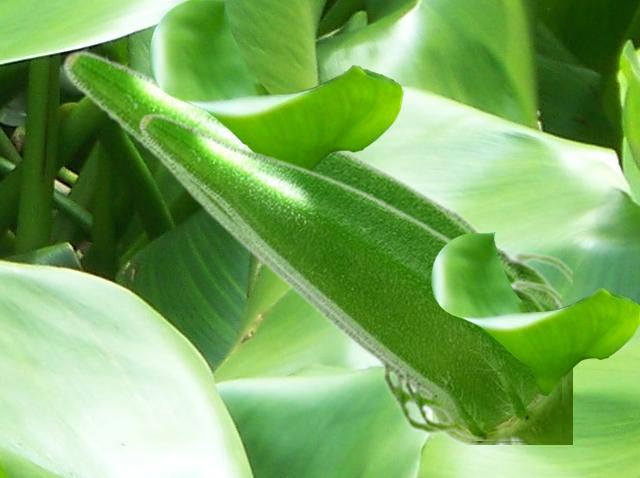okra: (61, 49, 571, 443), (137, 112, 560, 439)
